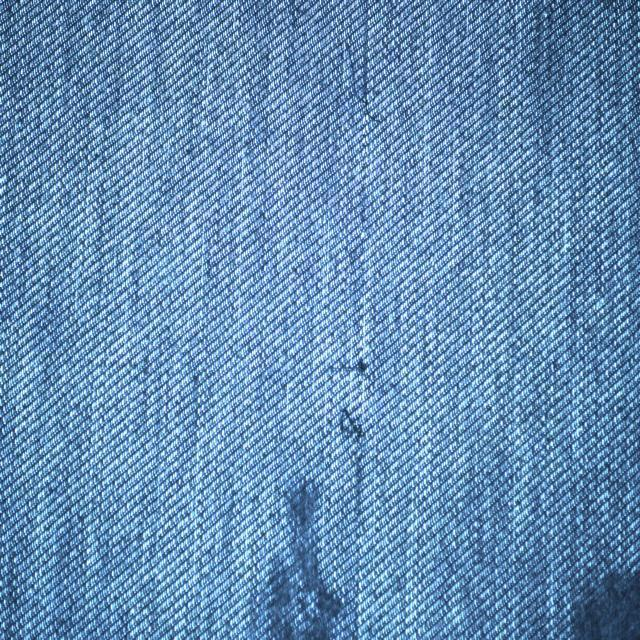defect: (260, 470, 356, 640), (570, 556, 640, 639), (336, 401, 367, 447)
